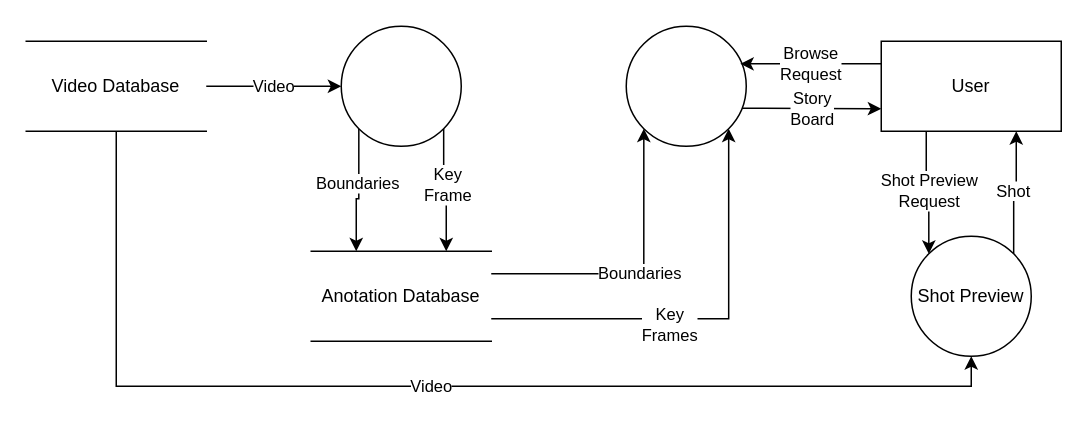
This 1088x425 diagram has some shape labels left out. The box of each missing label's shape, as (x1, y1, x2, y2) in pixels:
Shot Boundary Detection: (340, 25, 461, 146)
Story Board Preview: (625, 25, 746, 146)
